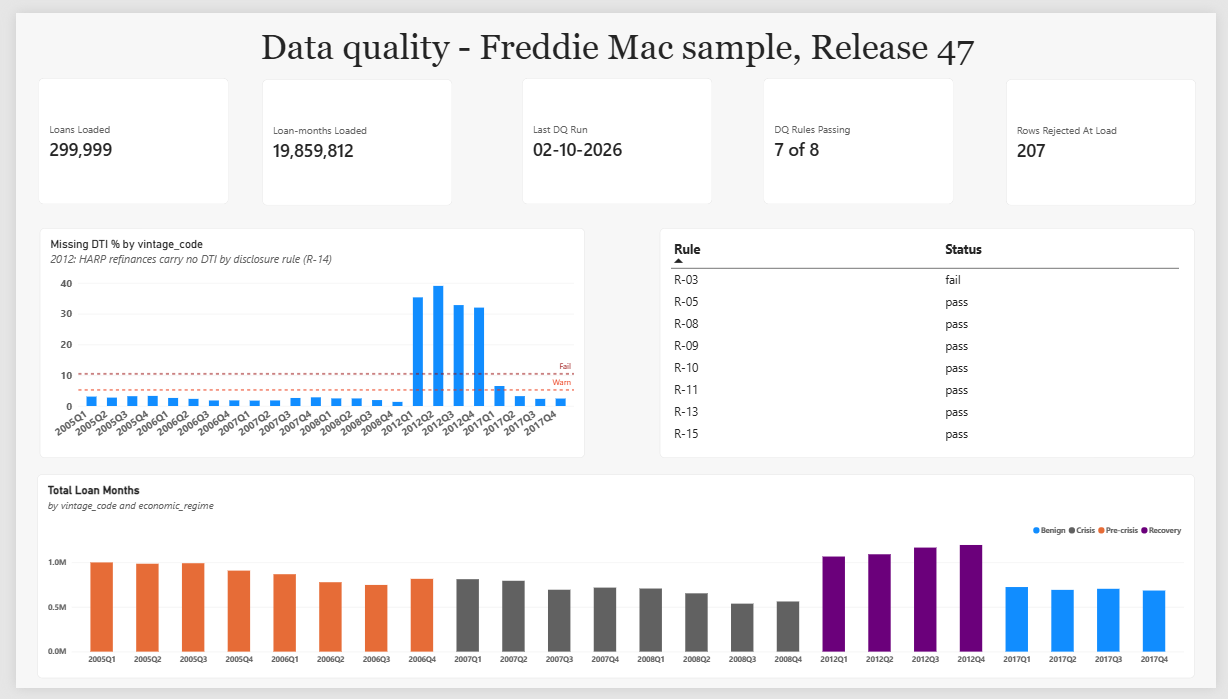

This screenshot's page, from the dashboard's own definition file:
{"tool":"powerbi","page":{"name":"Page 1","canvas":[1920,1080],"ordinal":0},"visuals":[{"type":"textbox","box":[36,22,1852,66],"z":0},{"type":"cardVisual","fields":{"Data":["v_vintage_summary.Total Loans Text"]},"box":[36,104,304,202],"z":1000},{"type":"cardVisual","fields":{"Data":["v_vintage_summary.Total Loan Months Text"]},"box":[394,106,304,202],"z":2000},{"type":"cardVisual","fields":{"Data":["v_load_latest.Rows Rejected"]},"box":[1584,106,304,202],"z":3000},{"type":"cardVisual","fields":{"Data":["v_dq_rule_history.Rules Passing Label"]},"box":[1196,104,304,202],"z":4000},{"type":"cardVisual","fields":{"Data":["v_dq_rule_history.Last DQ Run"]},"box":[810,104,304,202],"z":5000},{"type":"columnChart","fields":{"Category":["v_vintage_summary.vintage_code"],"Series":["v_vintage_summary.economic_regime"],"Y":["v_vintage_summary.Total Loan Months"]},"box":[34,738,1852,326],"z":6000},{"type":"tableEx","fields":{"Values":["v_dq_rule_history.rule_id","v_dq_rule_history.status"]},"box":[1030,344,856,368],"z":7000},{"type":"clusteredColumnChart","fields":{"Category":["v_dq_latest.vintage_code"],"Y":["v_dq_latest.Missing DTI %"]},"box":[38,344,872,368],"z":7001}]}

Visuals, with their boxes in screenshot pixels (x1, y1, x2, y2), scaled from the page's 1920x1080 canvas onto the 1228x699 screenshot:
textbox: 23/14/1208/57
cardVisual - v_vintage_summary.Total Loans Text: 23/67/217/198
cardVisual - v_vintage_summary.Total Loan Months Text: 252/69/446/199
cardVisual - v_load_latest.Rows Rejected: 1013/69/1208/199
cardVisual - v_dq_rule_history.Rules Passing Label: 765/67/959/198
cardVisual - v_dq_rule_history.Last DQ Run: 518/67/712/198
columnChart - v_vintage_summary.vintage_code x v_vintage_summary.economic_regime: 22/478/1206/689
tableEx - v_dq_rule_history.rule_id x v_dq_rule_history.status: 659/223/1206/461
clusteredColumnChart - v_dq_latest.vintage_code x v_dq_latest.Missing DTI %: 24/223/582/461
